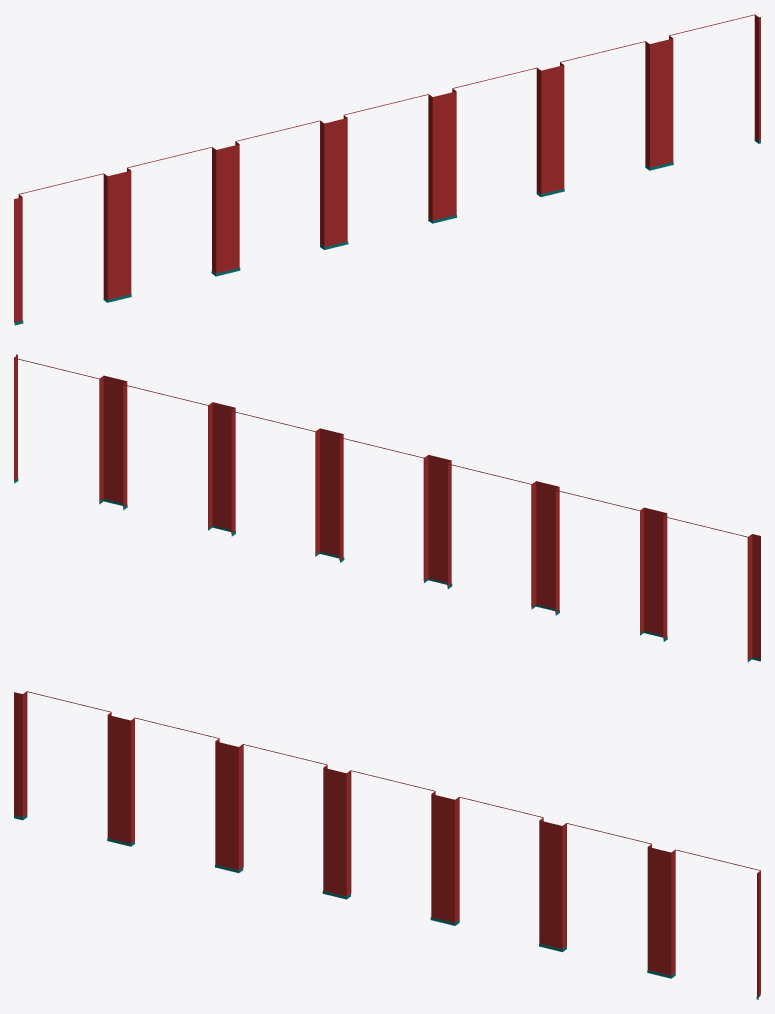
The model's file is SM_Wall_03.fbx.
The picture shows the model from 3 angles, top to bottom: view 1: azimuth 30°, elevation 25°; view 2: azimuth 150°, elevation 25°; view 3: azimuth 330°, elevation 25°; orthographic projection.
Visible parts, largest first — view 1: SM_Wall_03; view 2: SM_Wall_03; view 3: SM_Wall_03.
Boxes of the visible parts, bbox=[...] form: SM_Wall_03: bbox=[14, 14, 760, 325]; SM_Wall_03: bbox=[14, 354, 760, 661]; SM_Wall_03: bbox=[14, 691, 760, 999].
Size of the model in its own units: 1895 by 306 by 19.95.
